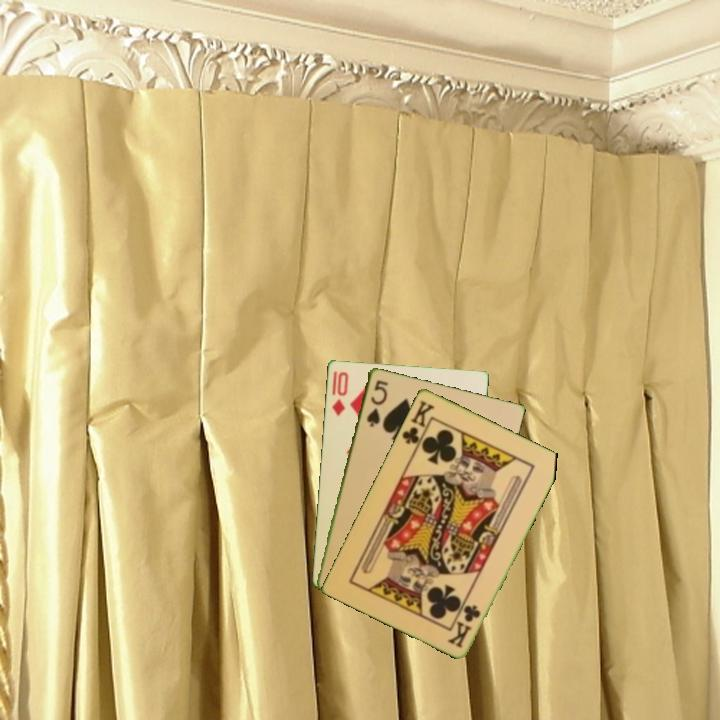10d: (328, 368, 351, 419)
5s: (363, 376, 391, 430)
Kc: (398, 396, 438, 452), (445, 601, 483, 650)
